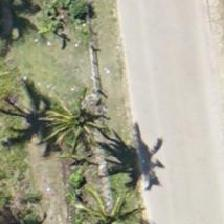Kelapa_Sawit: (23, 86, 113, 176), (61, 174, 151, 224)
